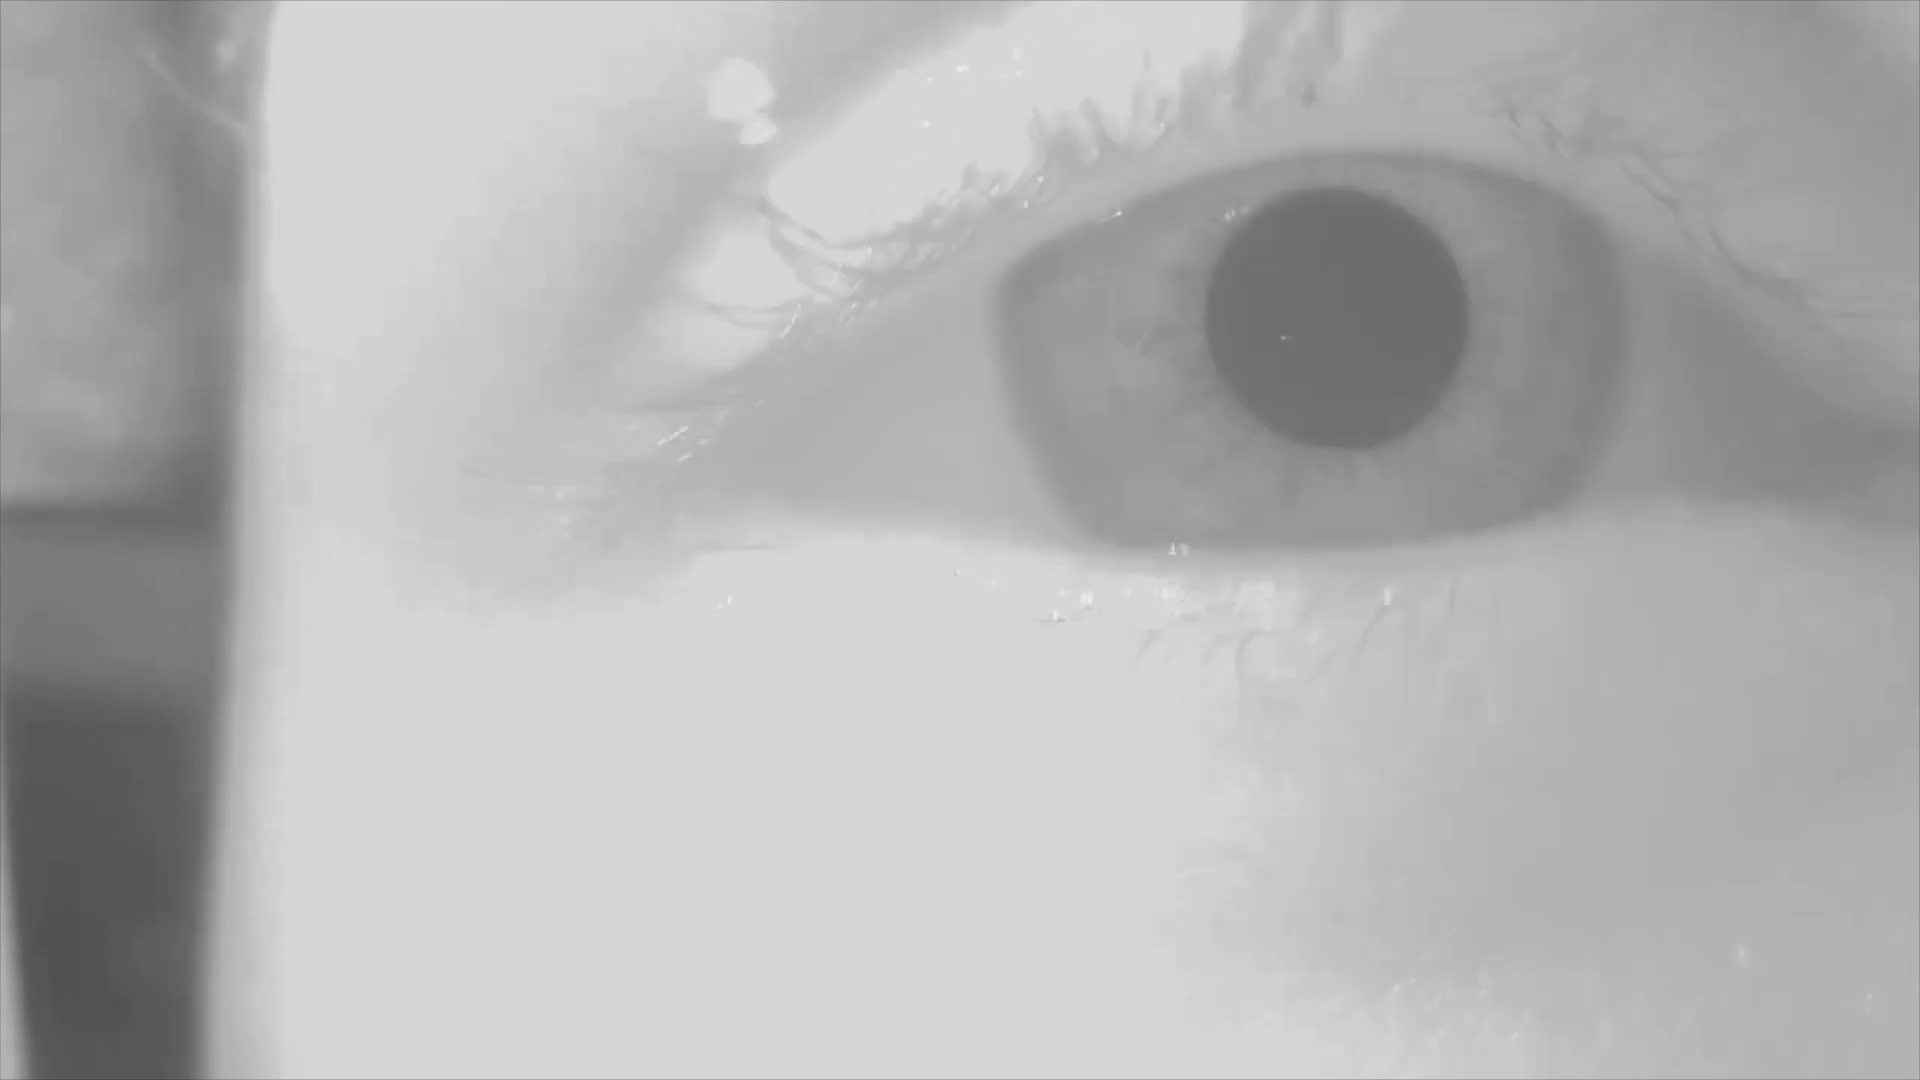pupil: (1207, 190, 1467, 457)
